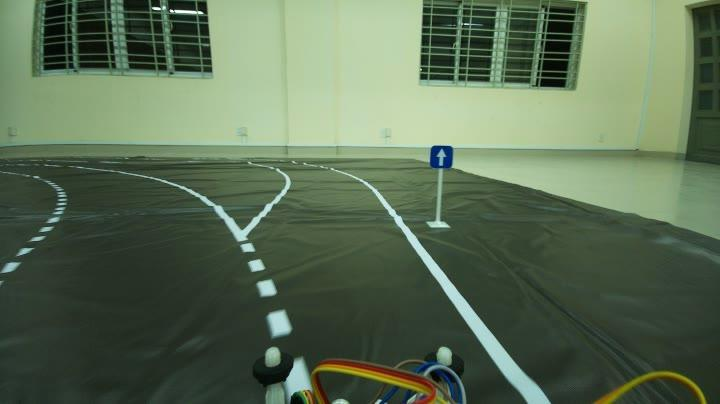onewayroad: (428, 144, 455, 170)
